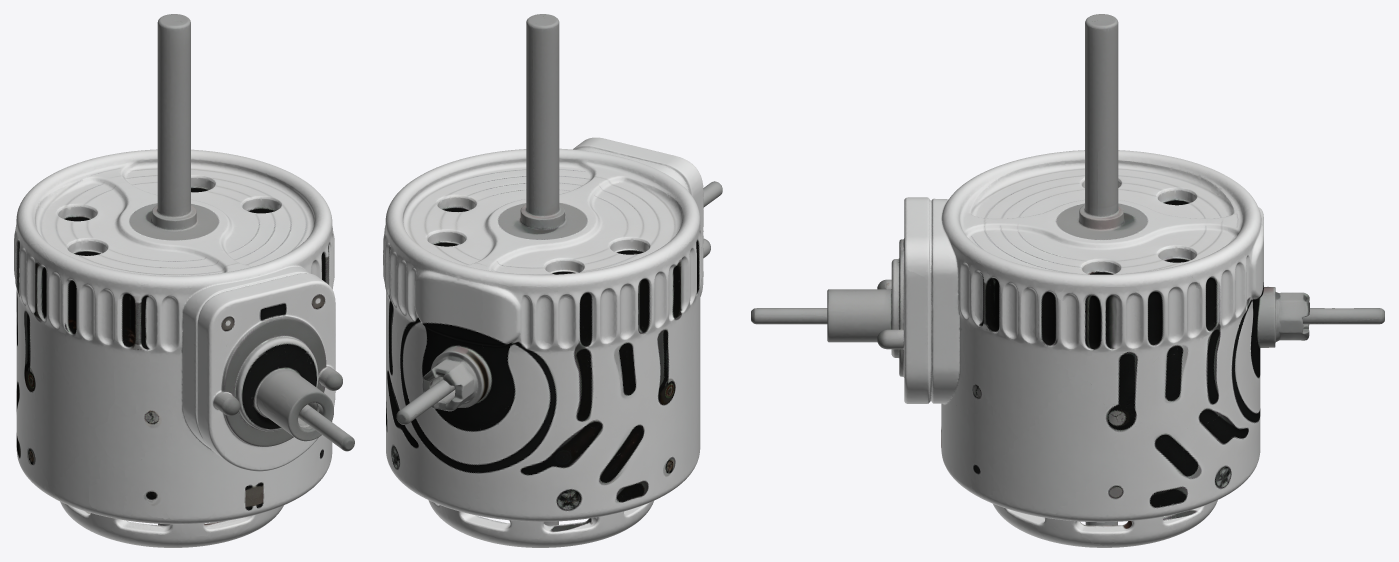
The model's file is motor.glb.
3 renders of one model, left to right at view 1: azimuth 30°, elevation 25°; view 2: azimuth 150°, elevation 25°; view 3: azimuth 270°, elevation 25°, orthographic.
Bounding box in the file's own units: 0.9553 × 1.72 × 1.9.
Materials: 1 (1 with a texture image).
